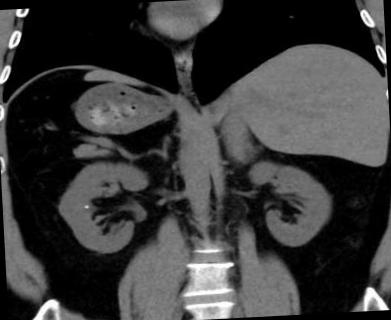Tas_Var: (83, 204, 90, 210)
